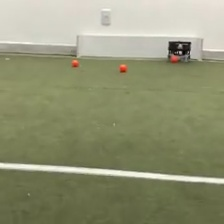ball: (118, 63, 128, 72), (71, 57, 80, 66), (170, 54, 178, 62)
goal: (74, 32, 205, 63)
robot: (167, 39, 192, 63)
